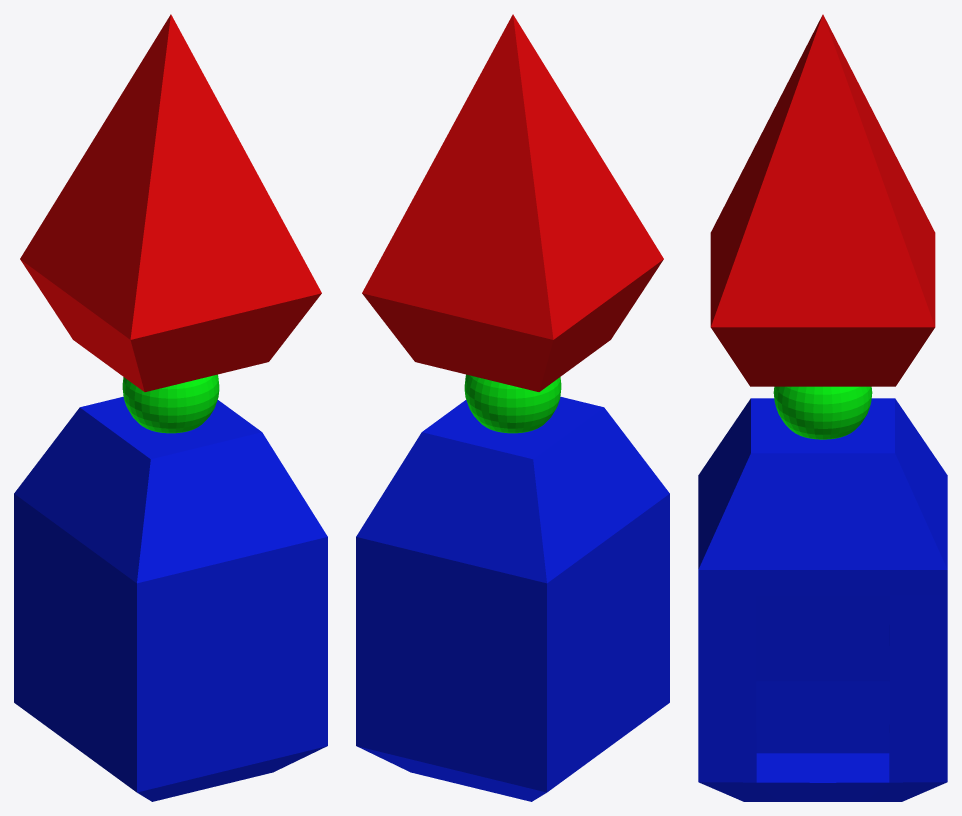
The model's file is SM_tower_concept.fbx.
3 views of the same model, side by side, from view 1: azimuth 30°, elevation 25°; view 2: azimuth 150°, elevation 25°; view 3: azimuth 270°, elevation 25° (orthographic).
Visible parts, largest first — view 1: BaseTower; view 2: BaseTower; view 3: BaseTower.
Boxes of the visible parts, box(x1,y1,x2,y2) form: BaseTower: box(14, 14, 327, 801); BaseTower: box(356, 14, 669, 801); BaseTower: box(698, 14, 947, 801).
Size of the model in its own units: 337 by 1245 by 372.
